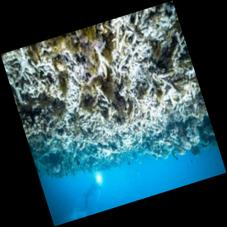bleached_corals: (1, 1, 217, 198)
